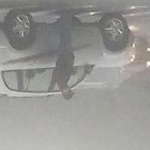person: (52, 8, 82, 100)
